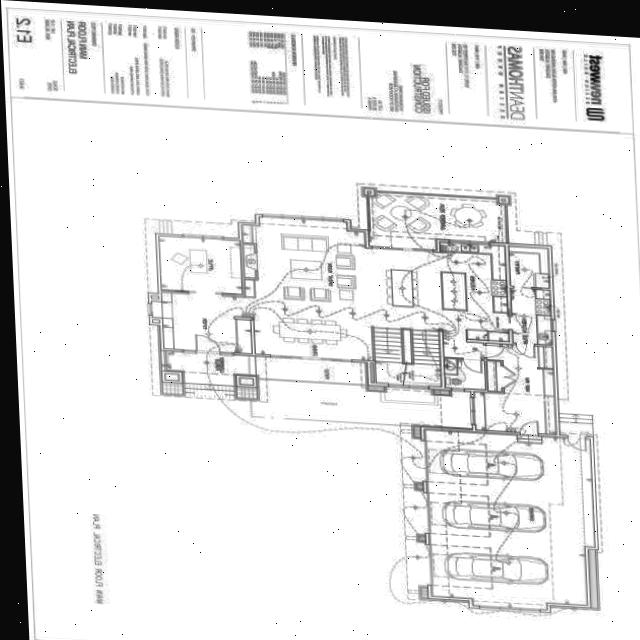room: (414, 429, 600, 612), (365, 192, 508, 254), (471, 343, 560, 435), (155, 236, 245, 294), (510, 286, 551, 347), (508, 244, 549, 290), (441, 359, 486, 390), (486, 361, 501, 392)
